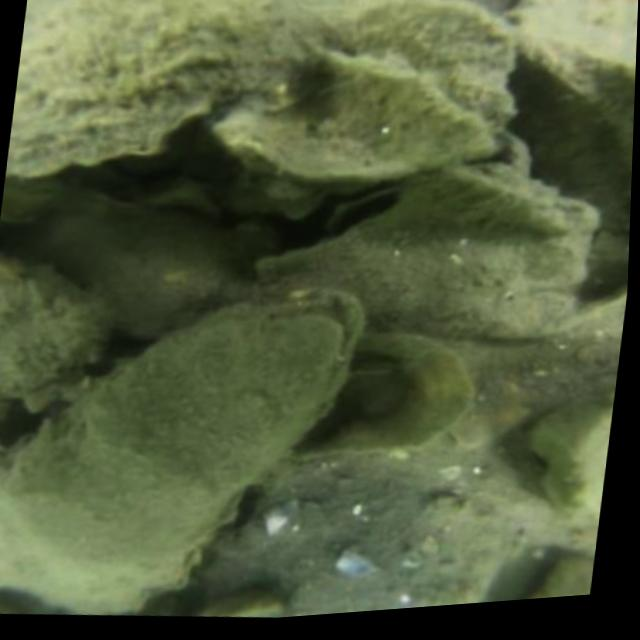Oyster-Closed: (0, 287, 375, 598), (200, 48, 528, 216)
Oyster-Indeterminate: (4, 0, 328, 181), (258, 169, 598, 338), (201, 474, 507, 613), (34, 194, 243, 331), (280, 330, 480, 459), (332, 0, 512, 119), (0, 248, 107, 402), (418, 163, 578, 234), (533, 555, 585, 599)
